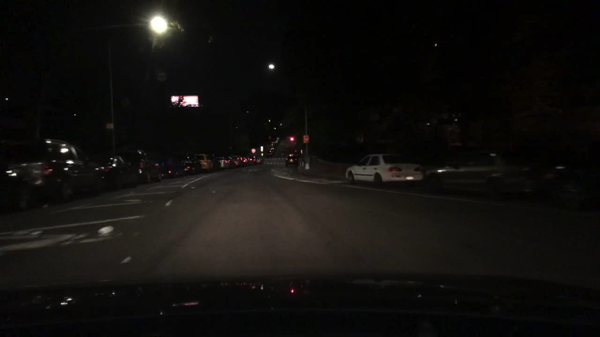car: (0, 140, 103, 202), (421, 150, 534, 198), (528, 148, 599, 205), (344, 153, 420, 187), (91, 155, 135, 193), (0, 160, 32, 212), (123, 151, 160, 184), (150, 157, 181, 178), (175, 153, 203, 174), (198, 155, 212, 172), (285, 154, 299, 169), (211, 157, 221, 170), (226, 158, 236, 168), (220, 158, 228, 169), (236, 156, 242, 167), (240, 158, 248, 166), (248, 158, 255, 165), (264, 151, 272, 156), (256, 158, 261, 164)
traffic light: (289, 138, 294, 143)
traffic sign: (303, 136, 308, 144), (251, 148, 256, 153)
